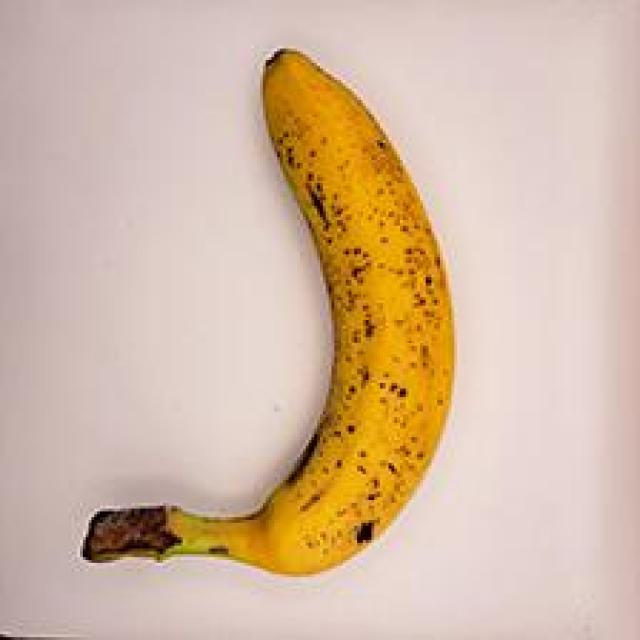Overripe: (48, 22, 475, 600)
